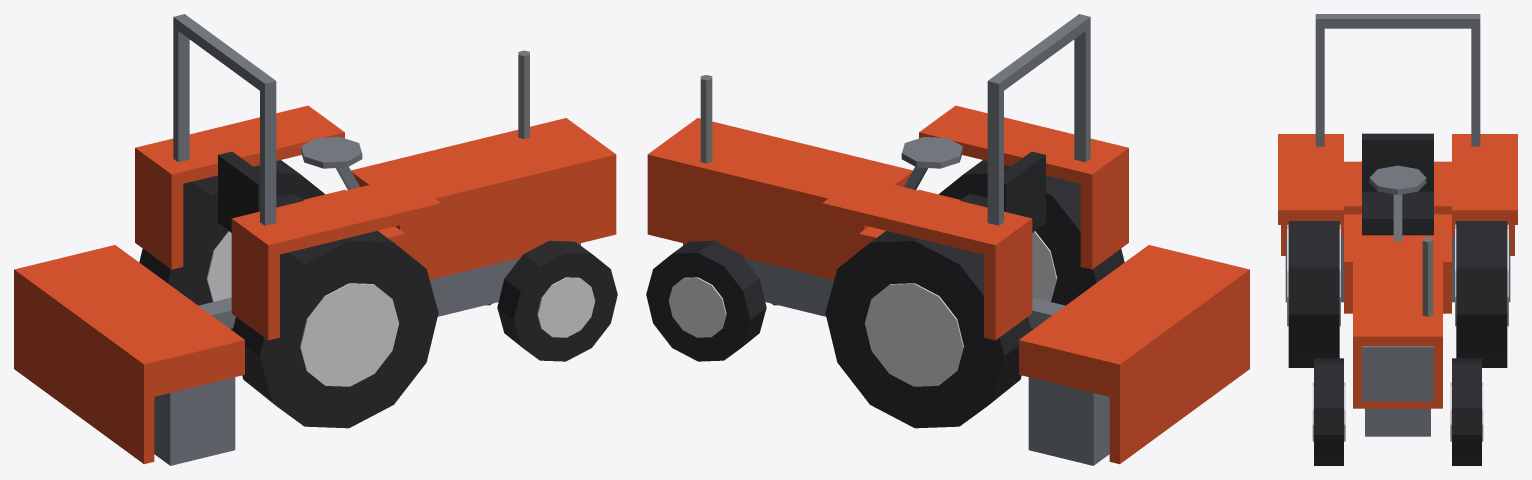
The model's file is scatter-single1.fbx.
3 renders of one model, left to right at view 1: azimuth 30°, elevation 25°; view 2: azimuth 150°, elevation 25°; view 3: azimuth 270°, elevation 25°, orthographic. The views are drawn at different scales.
Visible parts, largest first — view 1: a1096/0/scatter-single1; view 2: a1096/0/scatter-single1; view 3: a1096/0/scatter-single1.
Part boxes in pixels (x1,y1,x2,y2): a1096/0/scatter-single1: (14, 14, 617, 465); a1096/0/scatter-single1: (646, 14, 1249, 465); a1096/0/scatter-single1: (1278, 14, 1517, 465).
Size of the model in its own units: 3.57 by 2.32 by 1.6.
